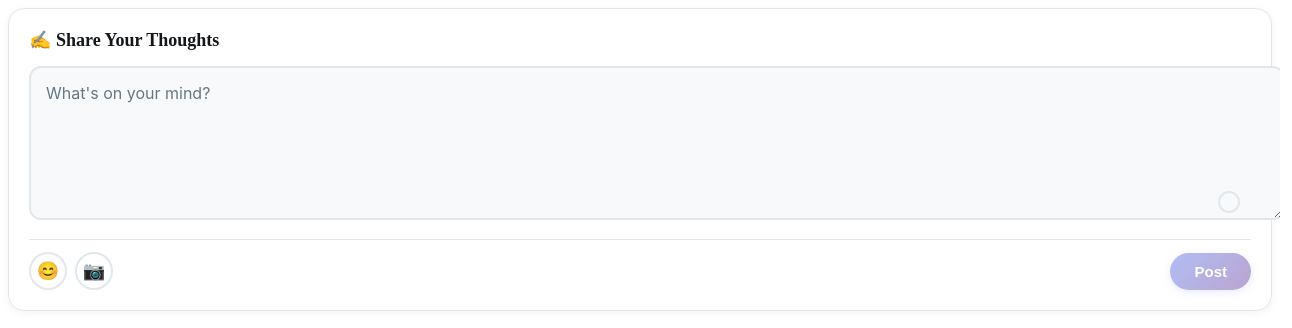
Test: StatusForm Component › submit button is enabled when textarea has content
Type "New status" into the text box with placeholder "What's on your mind?".
click(654, 143); type("New status")  # box top-left (29, 66), bottom-right (1280, 220)
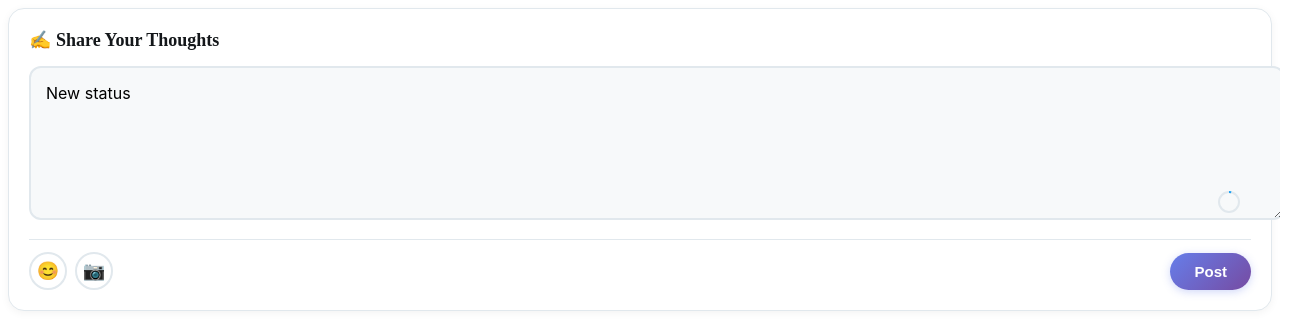
Expected: the button "Post" is enabled, top-left (1170, 252), bottom-right (1251, 290)
